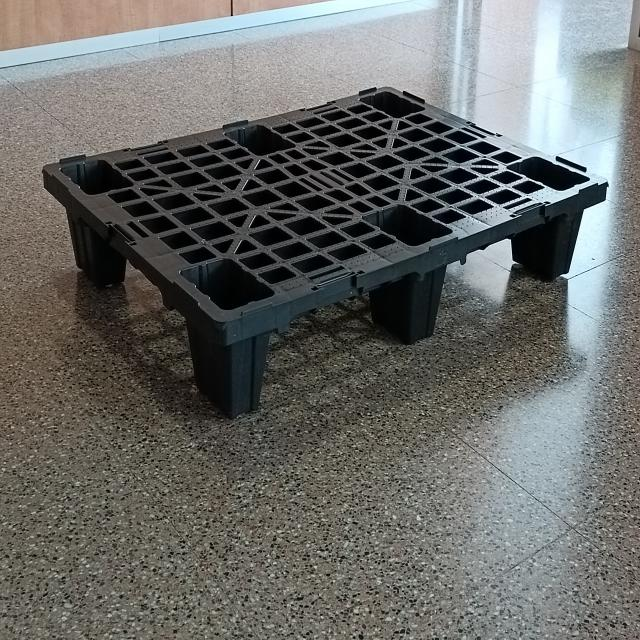block: (191, 305, 266, 412), (531, 199, 598, 290), (60, 187, 116, 290), (397, 264, 448, 341)
front: (194, 183, 614, 425)
